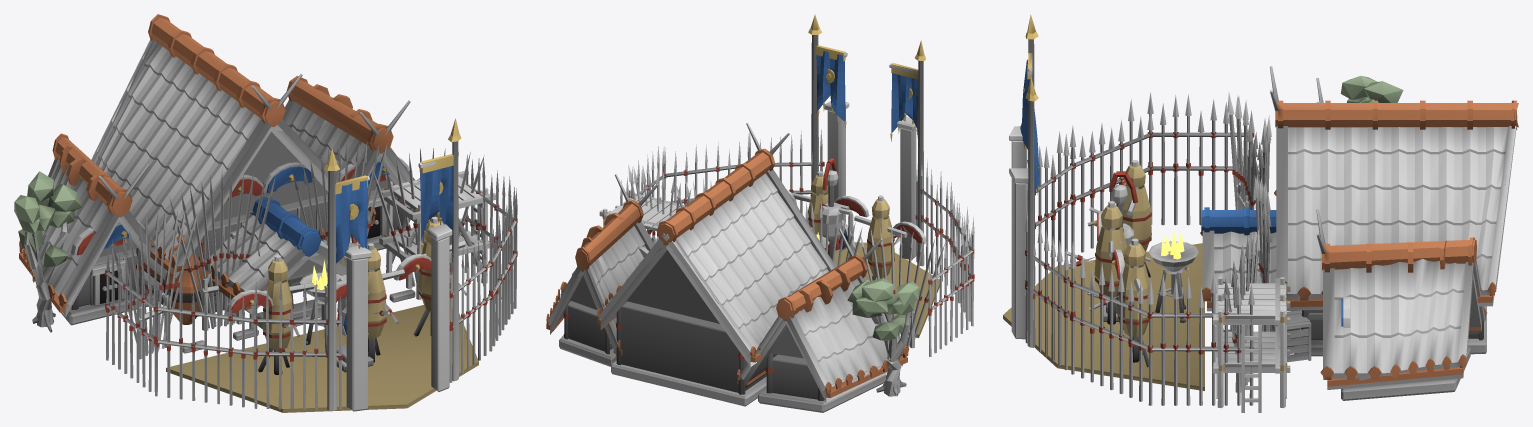
The model's file is javelin-camp-l3.glb.
The picture shows the model from 3 angles, left to right: view 1: azimuth 30°, elevation 25°; view 2: azimuth 150°, elevation 25°; view 3: azimuth 270°, elevation 25°; orthographic projection. The views are drawn at different scales.
Parts seen in each view (by area): view 1: javelin-camp-l3; view 2: javelin-camp-l3; view 3: javelin-camp-l3.
Part boxes in pixels (x1,y1,x2,y2): javelin-camp-l3: (14,14,517,412); javelin-camp-l3: (546,14,974,412); javelin-camp-l3: (1003,14,1518,412).
Bounding box in the file's own units: 1.49 × 0.918 × 1.57.
